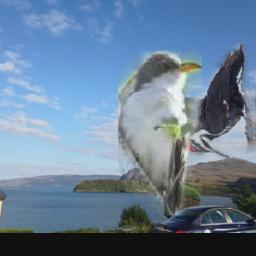Cuckoo: (119, 52, 203, 216)
Woodpecker: (180, 44, 256, 159)
